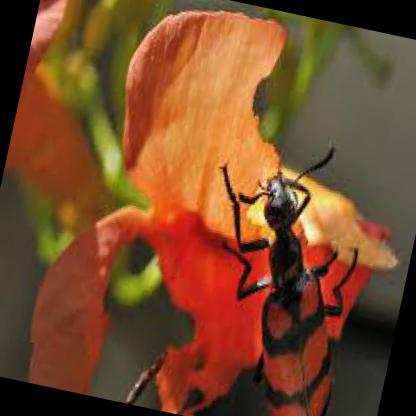blister beetle: (220, 163, 358, 416)
